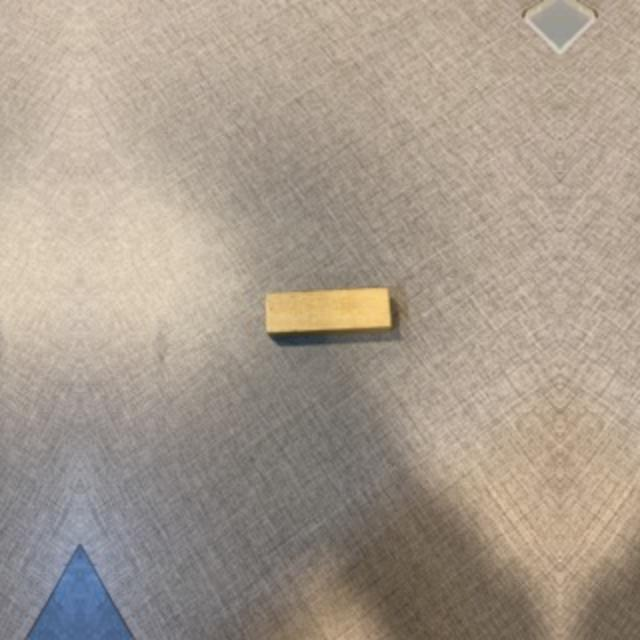jenga: (265, 289, 392, 337)
